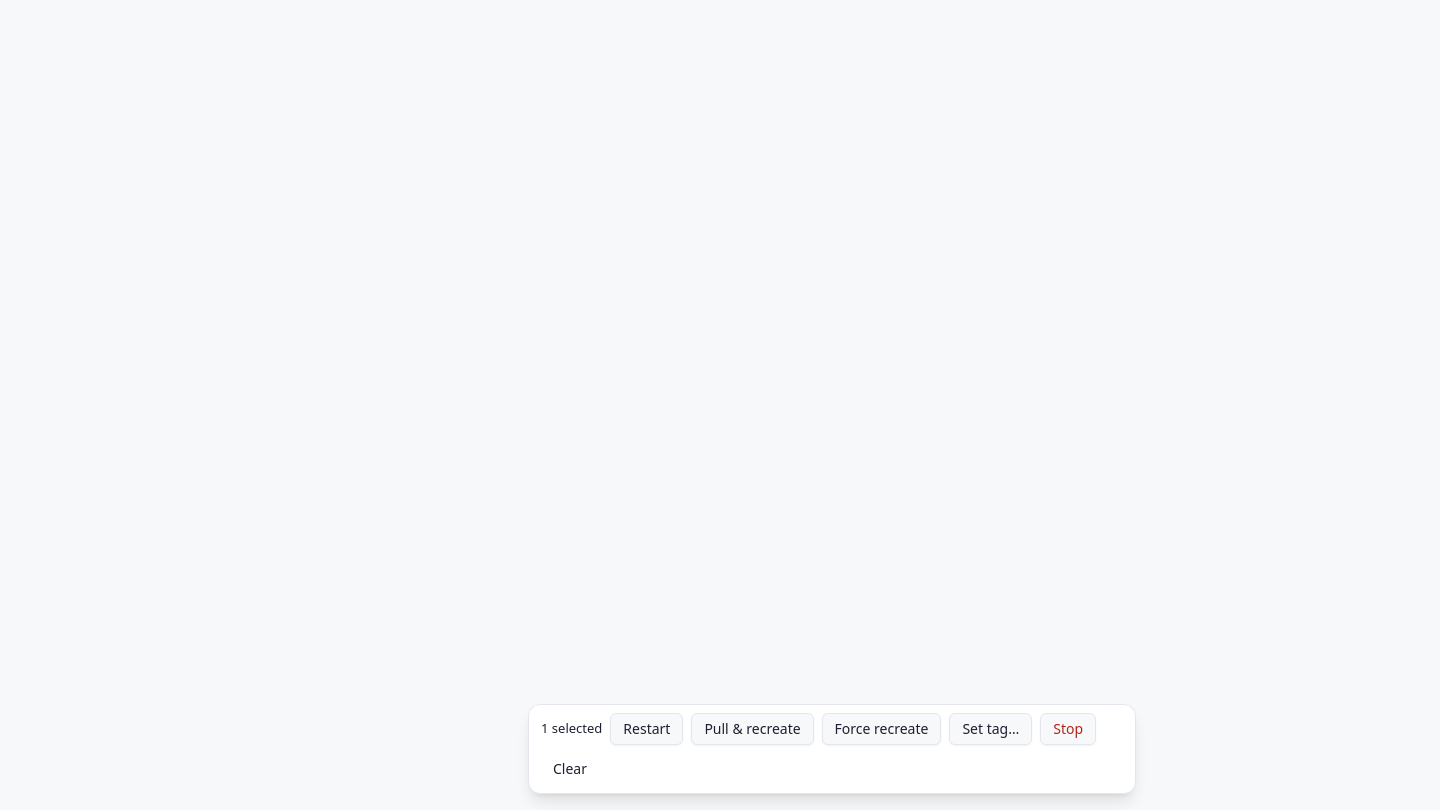
BulkBar › excludes envs with stale (errored) data from tag suggestions (M-7)
The image size is (1440, 810).
Click the button "Set tag…" at (991,729), box 949,713 -> 1032,745
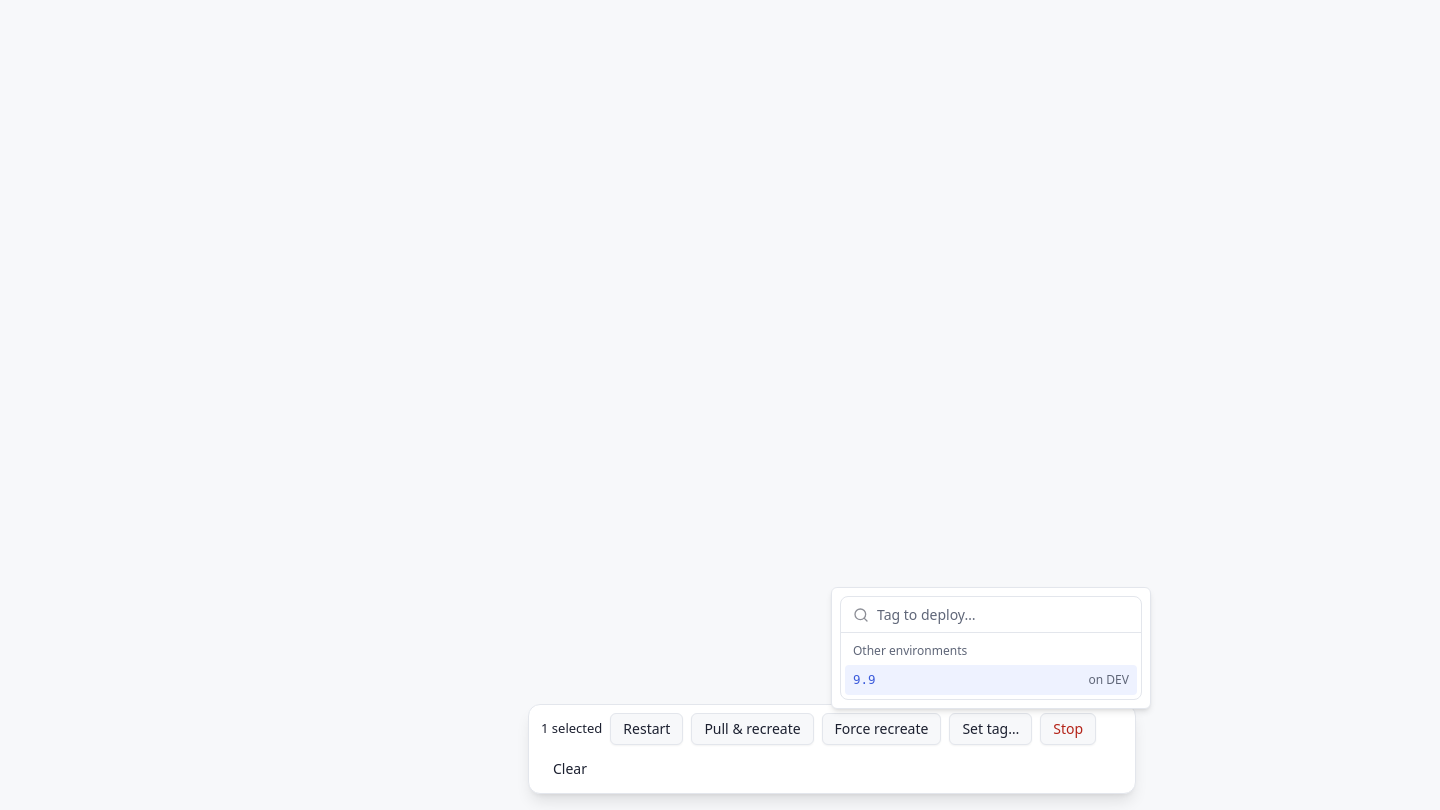
Expected: the text "9.9" is shown, 853,671 -> 876,689
